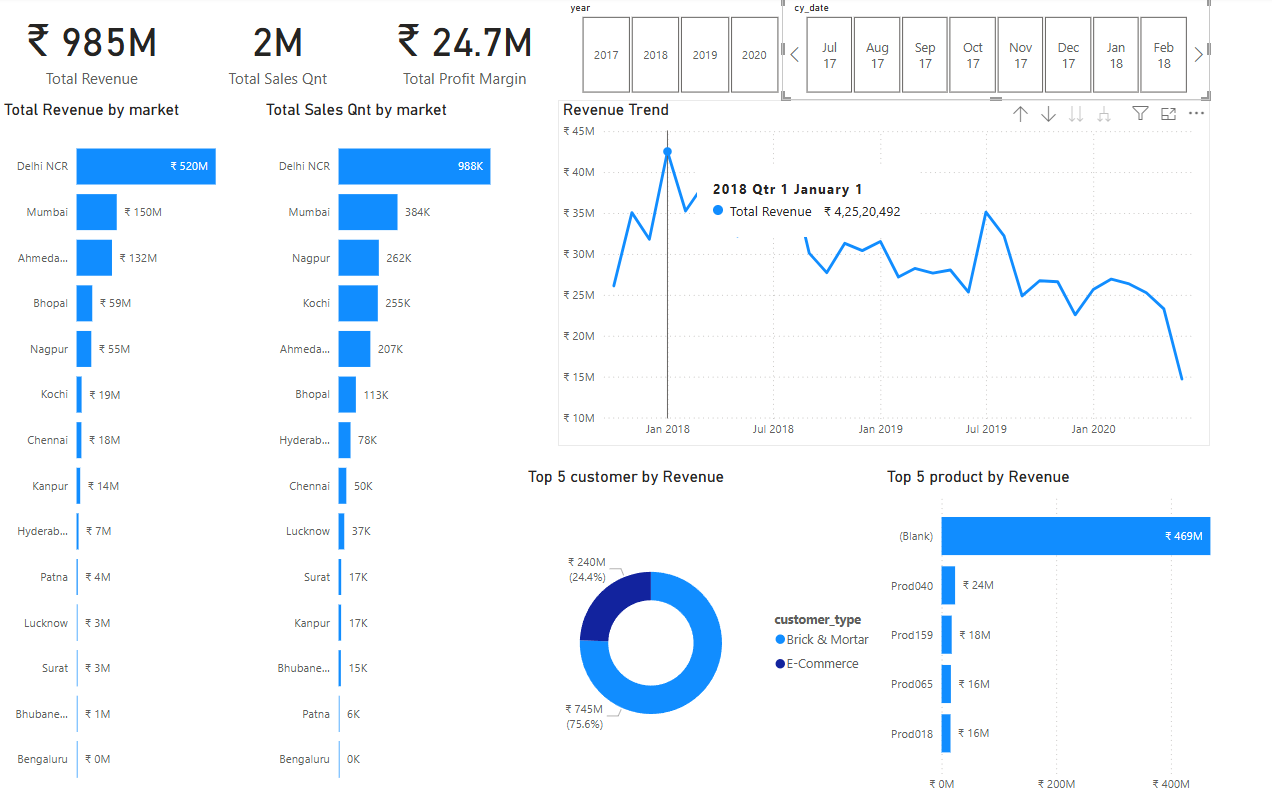

This screenshot's page, from the dashboard's own definition file:
{"tool":"powerbi","page":{"name":"Key Insights","canvas":[1350,850],"ordinal":0},"visuals":[{"type":"barChart","title":"Total Revenue by market","fields":{"Y":["Basemeasures.Total Revenue"],"Category":["sales markets.markets_name"]},"box":[0,108.9,277,741.1],"z":0},{"type":"card","fields":{"Values":["Basemeasures.Total Revenue"]},"box":[0,0,197,108.5],"z":1000},{"type":"card","fields":{"Values":["Basemeasures.Total Sales Qnt"]},"box":[197,0,197,108.5],"z":2000},{"type":"card","fields":{"Values":["Basemeasures.Total Profit Margin"]},"box":[394,0,197,108.5],"z":3000},{"type":"barChart","title":"Total Sales Qnt by market","fields":{"Y":["Basemeasures.Total Sales Qnt"],"Category":["sales markets.markets_name"]},"box":[277,108.9,277,741.1],"z":4000},{"type":"slicer","fields":{"Values":["sales date.year"]},"box":[591,0,256.7,108.5],"z":5000},{"type":"slicer","fields":{"Values":["sales date.cy_date"]},"box":[828.3,0,451.7,108.5],"z":6000},{"type":"donutChart","title":"Top 5 customer by Revenue","fields":{"Category":["sales customers.custmer_name","sales customers.customer_type"],"Y":["Basemeasures.Total Revenue"]},"box":[554,496.9,379.5,353.1],"z":7000},{"type":"barChart","title":"Top 5 product by Revenue","fields":{"Y":["Basemeasures.Total Revenue"],"Category":["sales products.product_code"]},"box":[933.5,496.9,416.5,353.1],"z":8000},{"type":"lineChart","title":"Revenue Trend","fields":{"Y":["Basemeasures.Total Revenue"],"Category":["sales date.cy_date.Variation.Date Hierarchy.Year","sales date.cy_date.Variation.Date Hierarchy.Quarter","sales date.cy_date.Variation.Date Hierarchy.Month","sales date.cy_date.Variation.Date Hierarchy.Day"]},"box":[591.4,108.9,688.6,365.7],"z":9000}]}

Visuals, with their boxes in screenshot pixels (x1, y1, x2, y2), scaled from the page's 1350x850 canvas onto the 1272x799 screenshot:
"Total Revenue by market" barChart: region(0, 102, 261, 798)
card - Basemeasures.Total Revenue: region(0, 0, 186, 102)
card - Basemeasures.Total Sales Qnt: region(186, 0, 371, 102)
card - Basemeasures.Total Profit Margin: region(371, 0, 557, 102)
"Total Sales Qnt by market" barChart: region(261, 102, 522, 798)
slicer - sales date.year: region(557, 0, 799, 102)
slicer - sales date.cy_date: region(780, 0, 1206, 102)
"Top 5 customer by Revenue" donutChart: region(522, 467, 880, 798)
"Top 5 product by Revenue" barChart: region(880, 467, 1271, 798)
"Revenue Trend" lineChart: region(557, 102, 1206, 446)
